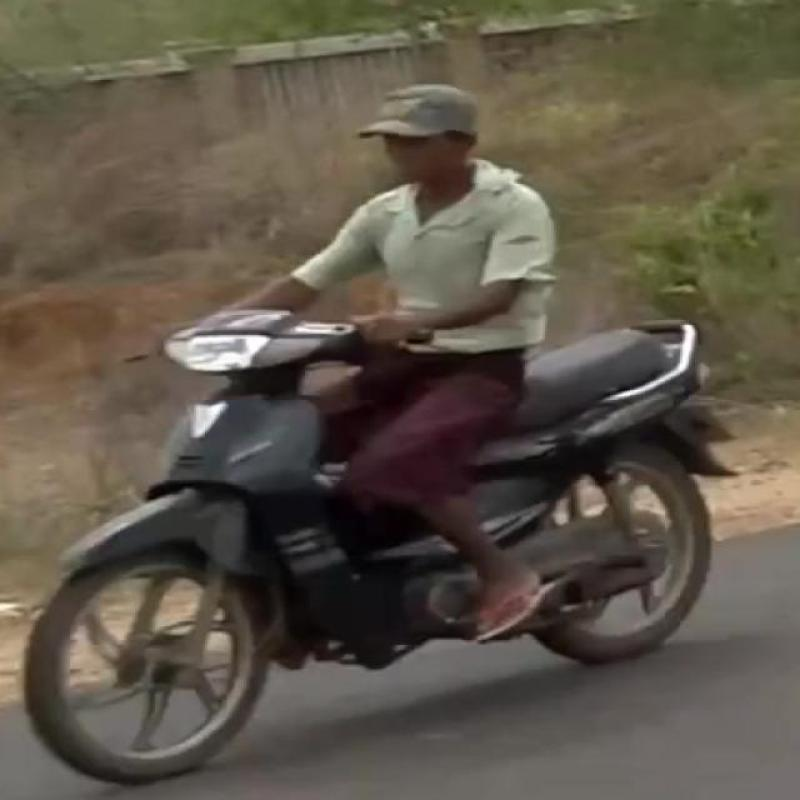nohelmet: (351, 58, 560, 184)
